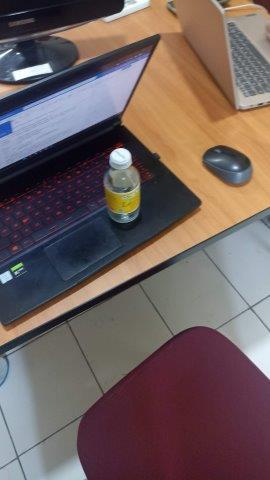botolkaca: (102, 147, 142, 226)
